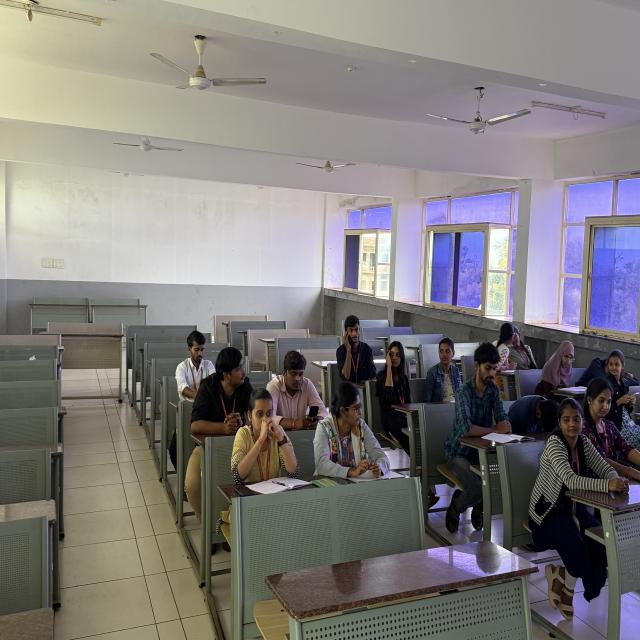Hand Rising: (223, 386, 288, 552), (380, 339, 422, 416), (376, 350, 409, 409)
Reading: (446, 341, 512, 535), (454, 332, 518, 468), (536, 336, 588, 402)
Using Phone: (268, 348, 332, 442), (332, 312, 380, 385)
